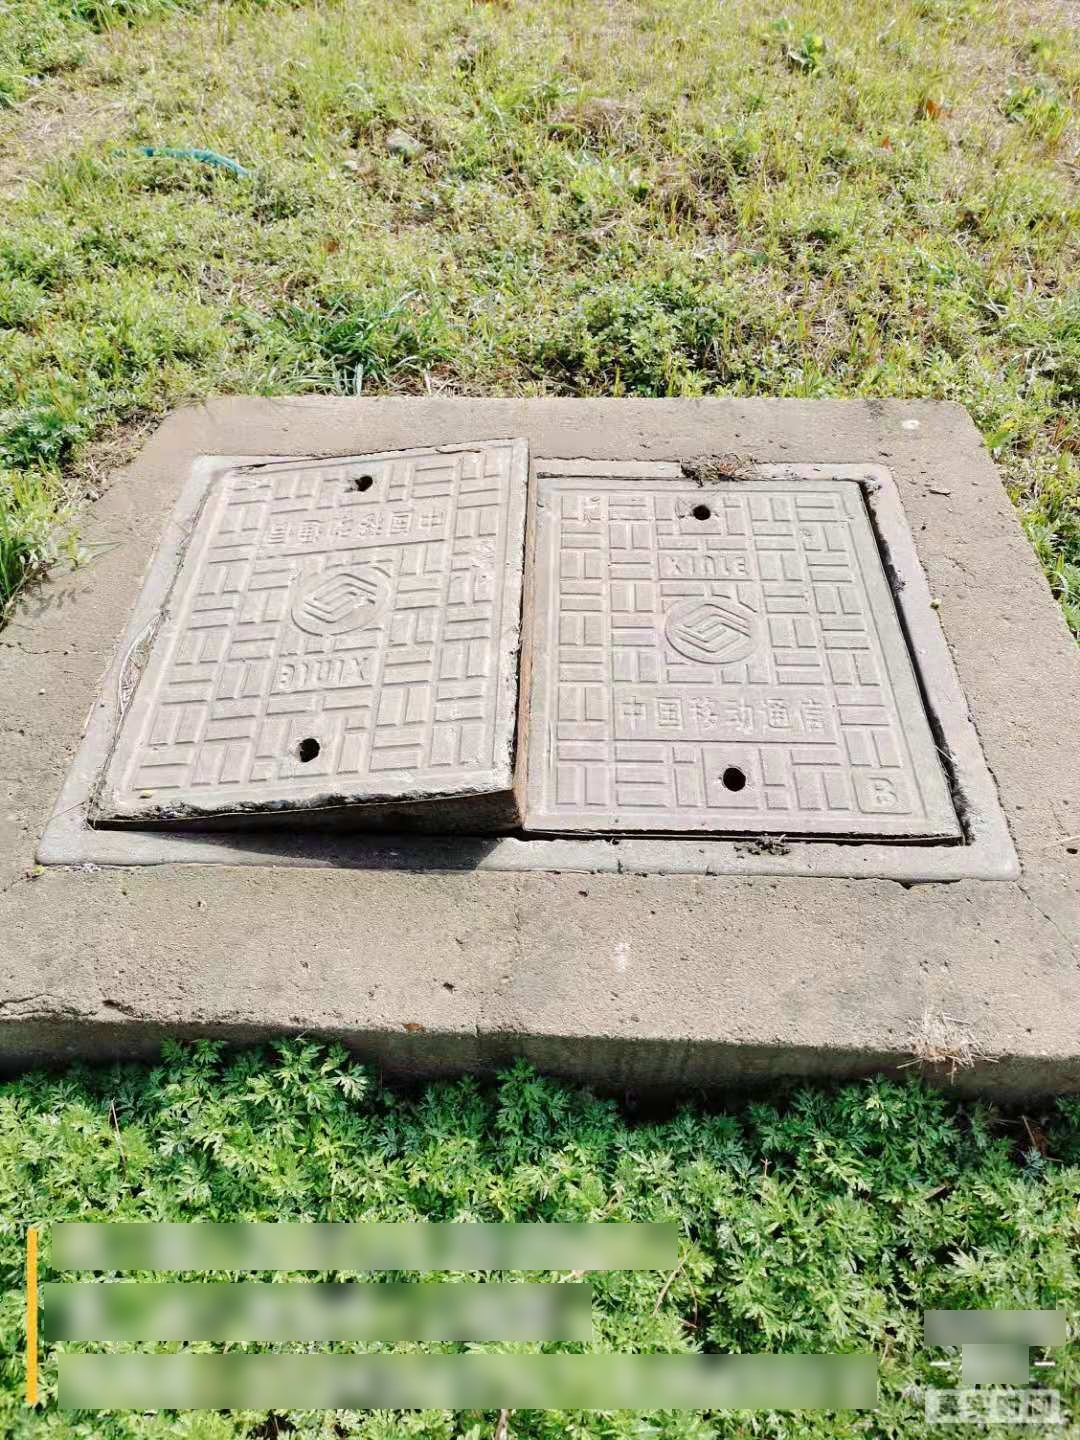uncovered: (33, 455, 1030, 889)
